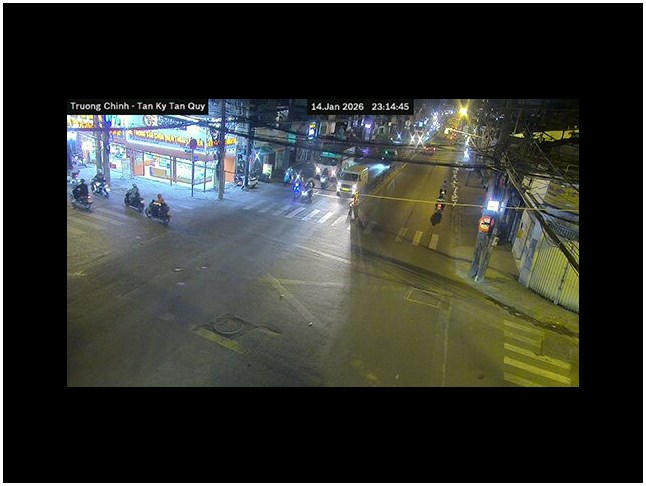motorbike: (146, 193, 172, 224)
